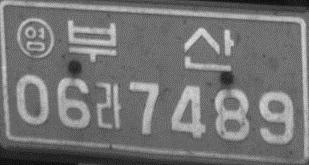0: (15, 72, 49, 125)
4: (170, 84, 205, 137)
6: (55, 75, 89, 128)
7: (128, 81, 159, 135)
8: (214, 87, 250, 142)
9: (258, 90, 294, 145)
라: (94, 81, 122, 130)
부산_D: (66, 19, 236, 72)
영: (15, 16, 55, 60)
